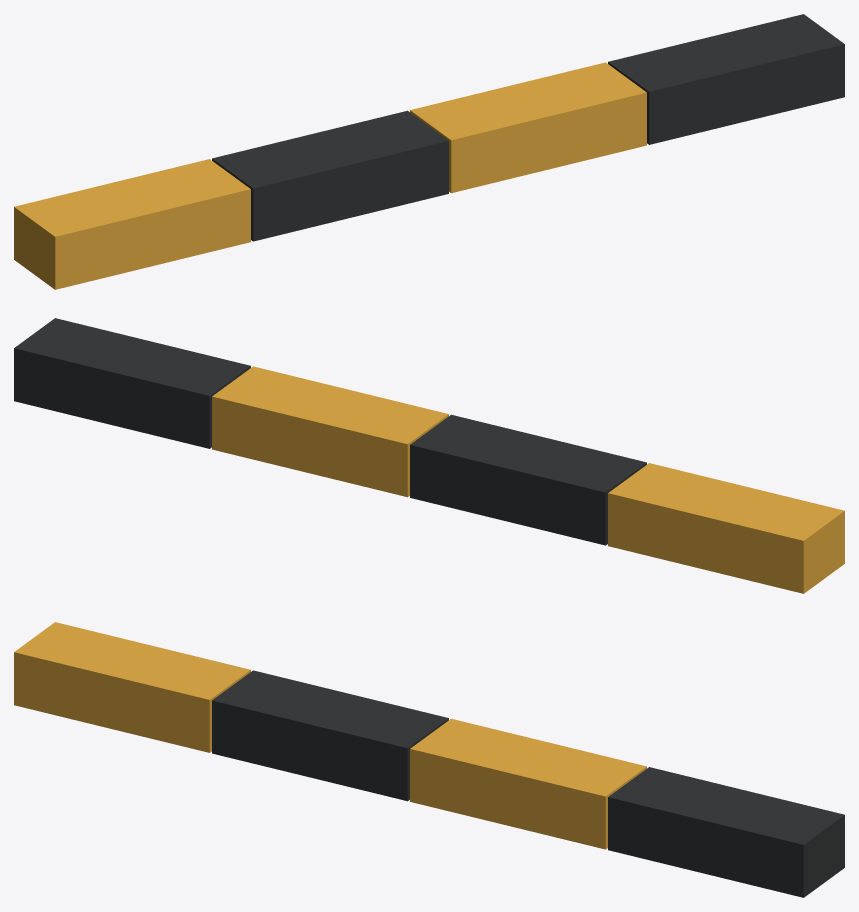
File: 098_painted_kerb_segment.glb
3 views of the same model, one above another, from view 1: azimuth 30°, elevation 25°; view 2: azimuth 150°, elevation 25°; view 3: azimuth 330°, elevation 25° (orthographic).
Parts seen in each view (by area): view 1: Painted kerb segment; view 2: Painted kerb segment; view 3: Painted kerb segment.
Boxes of the visible parts, x1,y1,x2,y2 form: Painted kerb segment: (14,14,844,289); Painted kerb segment: (14,318,844,593); Painted kerb segment: (14,622,844,897).
Bounding box in the file's own units: 3.43 × 0.22 × 0.31.
